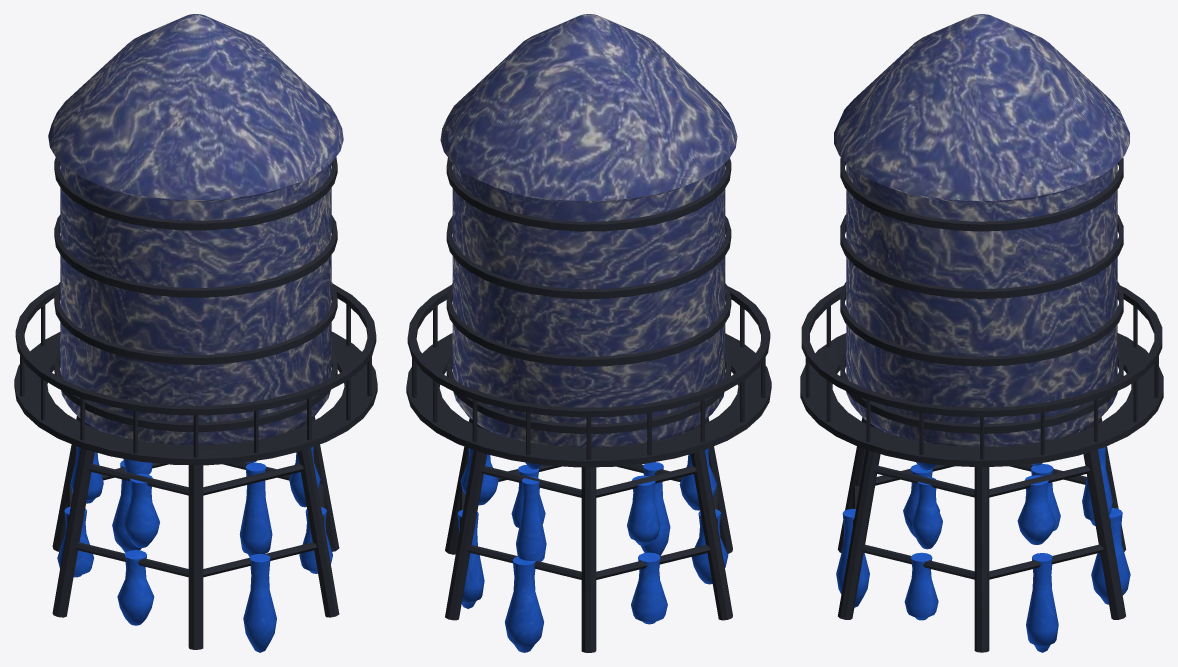
The model's file is water_tower.glb.
3 views of the same model, side by side, from view 1: azimuth 30°, elevation 25°; view 2: azimuth 150°, elevation 25°; view 3: azimuth 270°, elevation 25° (orthographic).
Parts seen in each view (by area): view 1: water_tower; view 2: water_tower; view 3: water_tower.
Boxes of the visible parts, x1,y1,x2,y2 form: water_tower: [14, 14, 377, 652]; water_tower: [406, 14, 771, 652]; water_tower: [800, 14, 1163, 652].
Bounding box in the file's own units: 3.34 × 6 × 3.33.
1 material, 1 textured.
